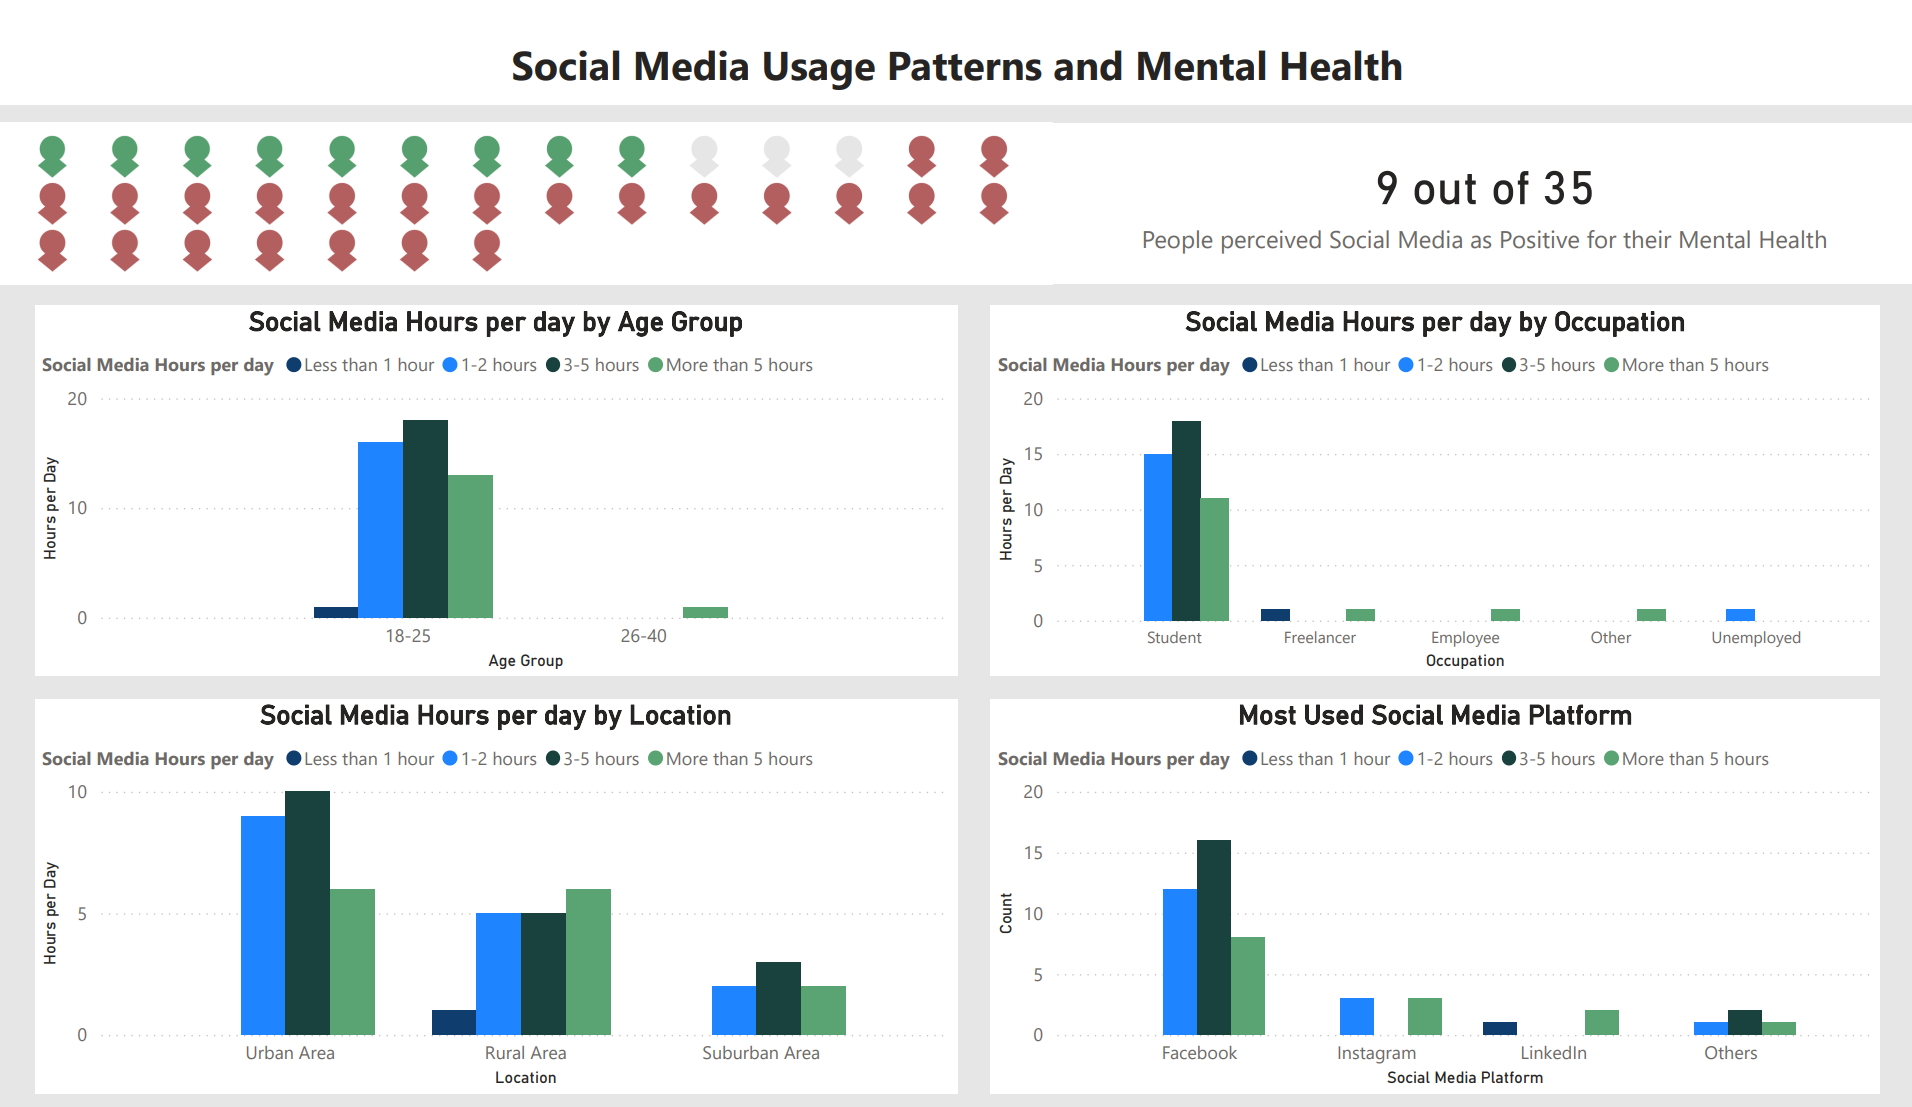

The page's visual inventory and layout, read from the dashboard file:
{"tool":"powerbi","page":{"name":"Page 1","canvas":[1280,720],"ordinal":0},"visuals":[{"type":"textbox","box":[0,0,1280.4,49.8],"z":0},{"type":"clusteredColumnChart","title":"Social Media Hours per day by Occupation","fields":{"Category":["dataset_clean (2).Occupation"],"Series":["dataset_clean (2).Social Media Hours per day"],"Y":["CountNonNull(dataset_clean (2).Social Media Hours per day)"]},"box":[661.6,184.2,593.3,246.8],"z":1000},{"type":"clusteredColumnChart","title":"Social Media Hours per day by Age Group ","fields":{"Y":["CountNonNull(dataset_clean (2).Social Media Hours per day)"],"Category":["dataset_clean (2).Age Group"],"Series":["dataset_clean (2).Social Media Hours per day"]},"box":[25.5,184.2,614.1,246.8],"z":2000},{"type":"clusteredColumnChart","title":"Social Media Hours per day by Location","fields":{"Series":["dataset_clean (2).Social Media Hours per day"],"Y":["CountNonNull(dataset_clean (2).Social Media Hours per day)"],"Category":["dataset_clean (2).Location"]},"box":[25.5,446.1,614.1,263],"z":3000},{"type":"clusteredColumnChart","title":"Most Used Social Media Platform","fields":{"Category":["dataset_clean (2).Most Used Social Media"],"Series":["dataset_clean (2).Social Media Hours per day"],"Y":["CountNonNull(dataset_clean (2).Social Media Hours per day)"]},"box":[661.6,446.1,593.3,263],"z":4000},{"type":"card","fields":{"Values":["dataset_clean (2).People perceived Social Media as Positive for their Mental Health"]},"box":[703.4,62.6,577,107.8],"z":5000},{"type":"pythonVisual","fields":{"Values":["dataset_clean (2).Mental Impact","dataset_clean (2).Index"]},"box":[0,62.1,703,107.7],"z":6000}]}

Visuals, with their boxes in screenshot pixels (x1, y1, x2, y2), scaled from the page's 1280x720 canvas onto the 1912x1107 screenshot:
textbox: (left=0, top=0, right=1911, bottom=77)
"Social Media Hours per day by Occupation" clusteredColumnChart: (left=988, top=283, right=1875, bottom=663)
"Social Media Hours per day by Age Group " clusteredColumnChart: (left=38, top=283, right=955, bottom=663)
"Social Media Hours per day by Location" clusteredColumnChart: (left=38, top=686, right=955, bottom=1090)
"Most Used Social Media Platform" clusteredColumnChart: (left=988, top=686, right=1875, bottom=1090)
card - dataset_clean (2).People perceived Social Media as Positive for their Mental Health: (left=1051, top=96, right=1911, bottom=262)
pythonVisual - dataset_clean (2).Mental Impact x dataset_clean (2).Index: (left=0, top=95, right=1050, bottom=261)
